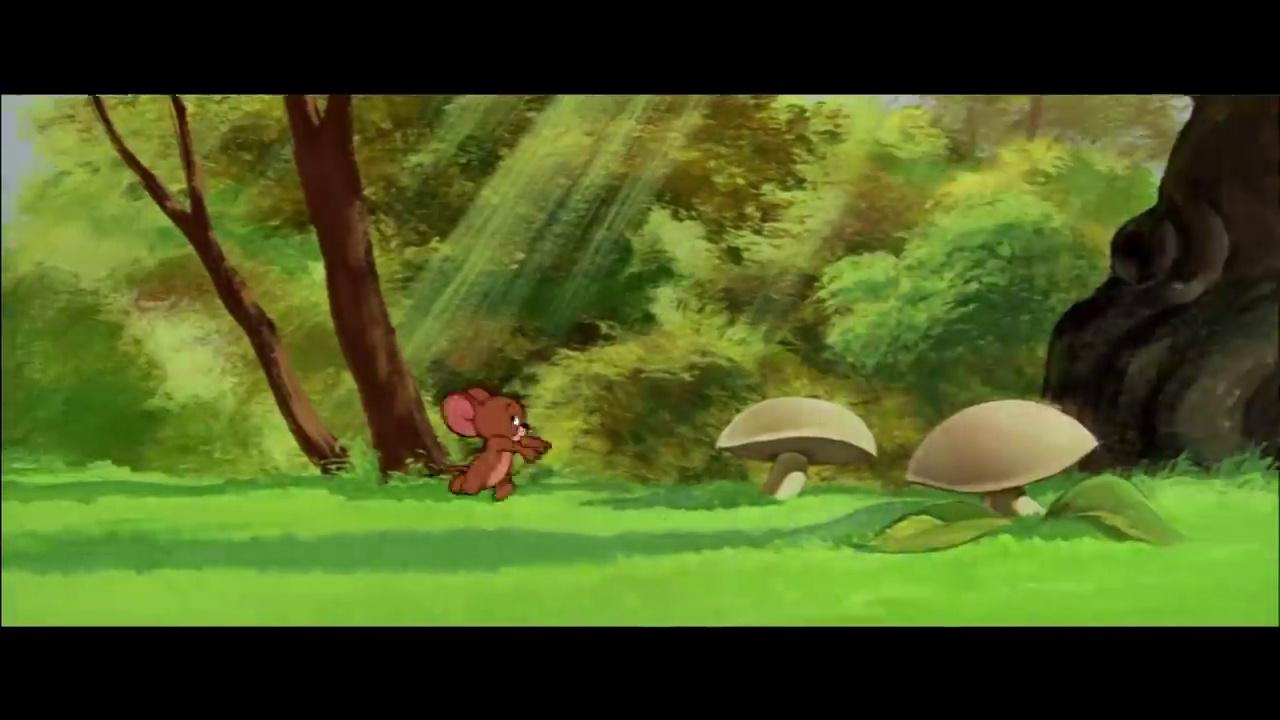Jerry: (428, 383, 552, 504)
